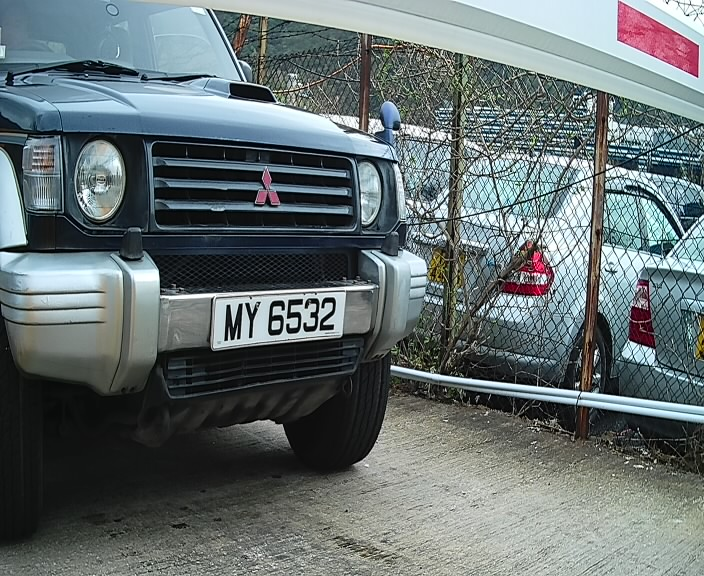License Plate: (202, 283, 358, 359)
